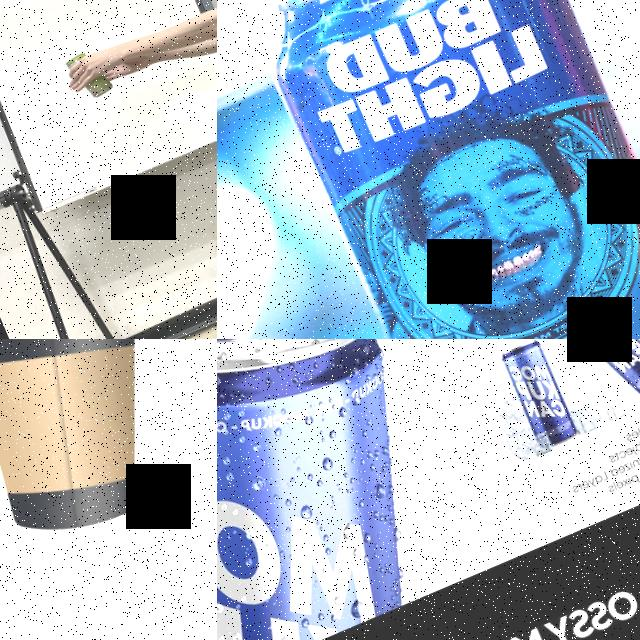can: (250, 0, 640, 339), (217, 339, 480, 640), (497, 339, 582, 453), (570, 339, 640, 418), (62, 46, 116, 104)
cup: (0, 339, 217, 561), (0, 385, 61, 640)
